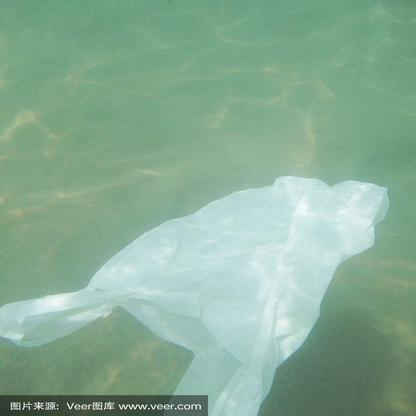plastic bag: (4, 175, 391, 416)
